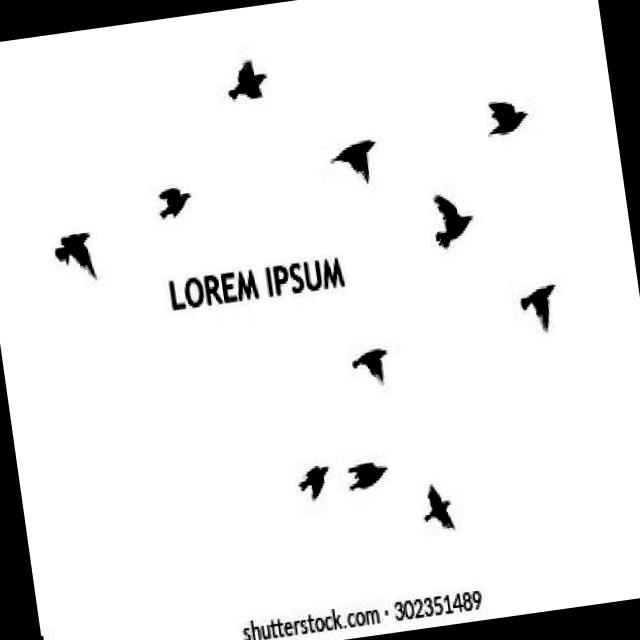bird: (421, 185, 483, 252), (48, 219, 104, 290), (325, 133, 382, 190), (513, 279, 566, 338), (220, 55, 274, 110), (341, 340, 395, 394), (340, 454, 398, 504), (148, 178, 200, 232), (417, 477, 463, 535), (478, 90, 530, 140), (290, 456, 336, 506)
